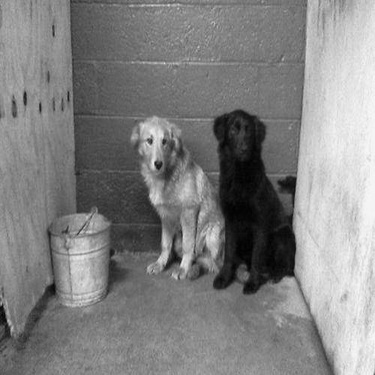dog: (125, 110, 228, 286), (211, 102, 302, 297)
